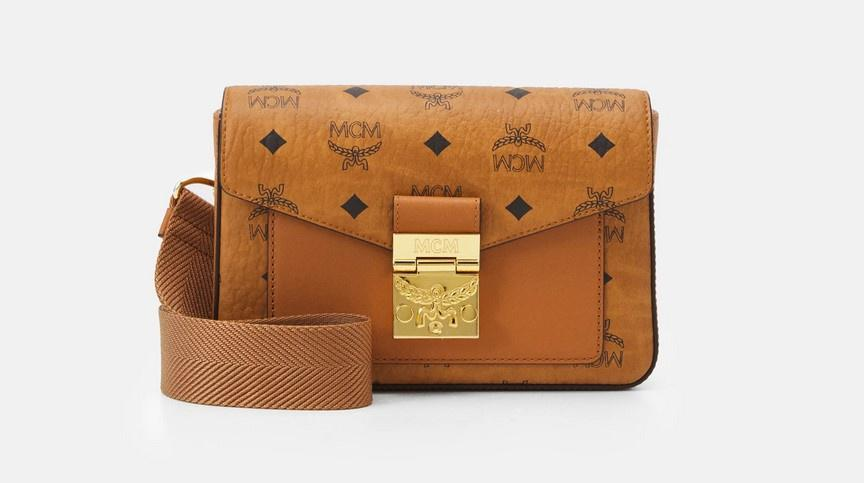MCM: (216, 78, 652, 382)
